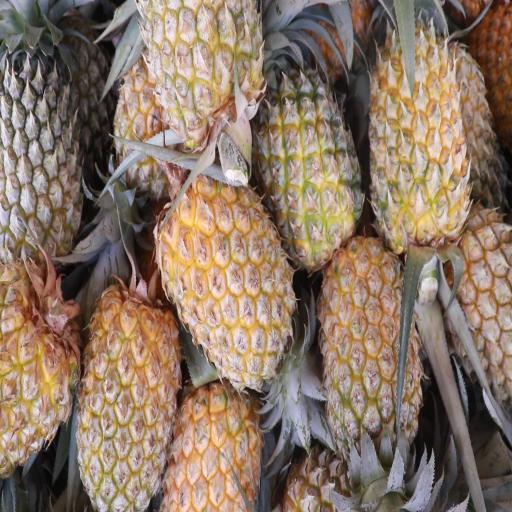------------------------------: (258, 56, 367, 275), (136, 2, 270, 174)
Pineapple - v8 v1: (154, 151, 300, 406), (316, 234, 424, 508), (367, 5, 474, 266), (72, 269, 186, 512), (0, 258, 89, 484), (162, 355, 264, 512), (447, 213, 512, 426)
